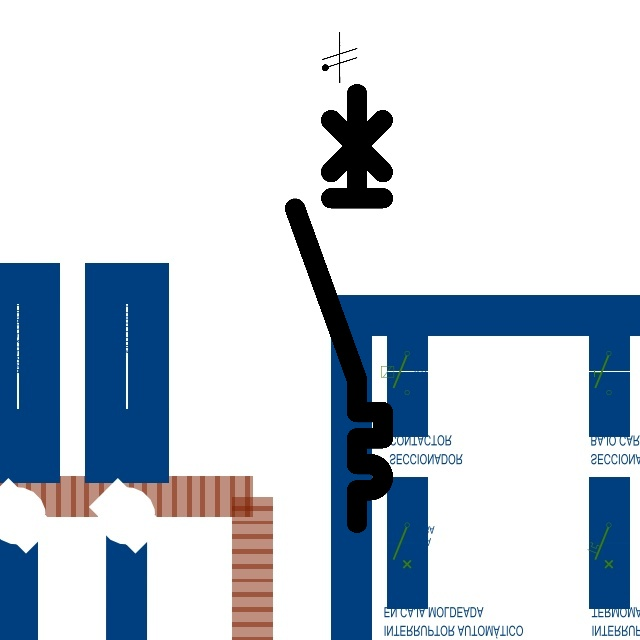interruptor_termomagnetico: (284, 83, 394, 534)
